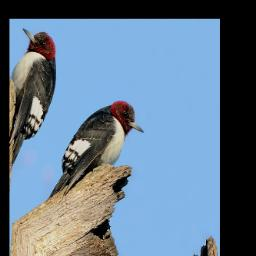Woodpecker: (42, 80, 150, 235)
